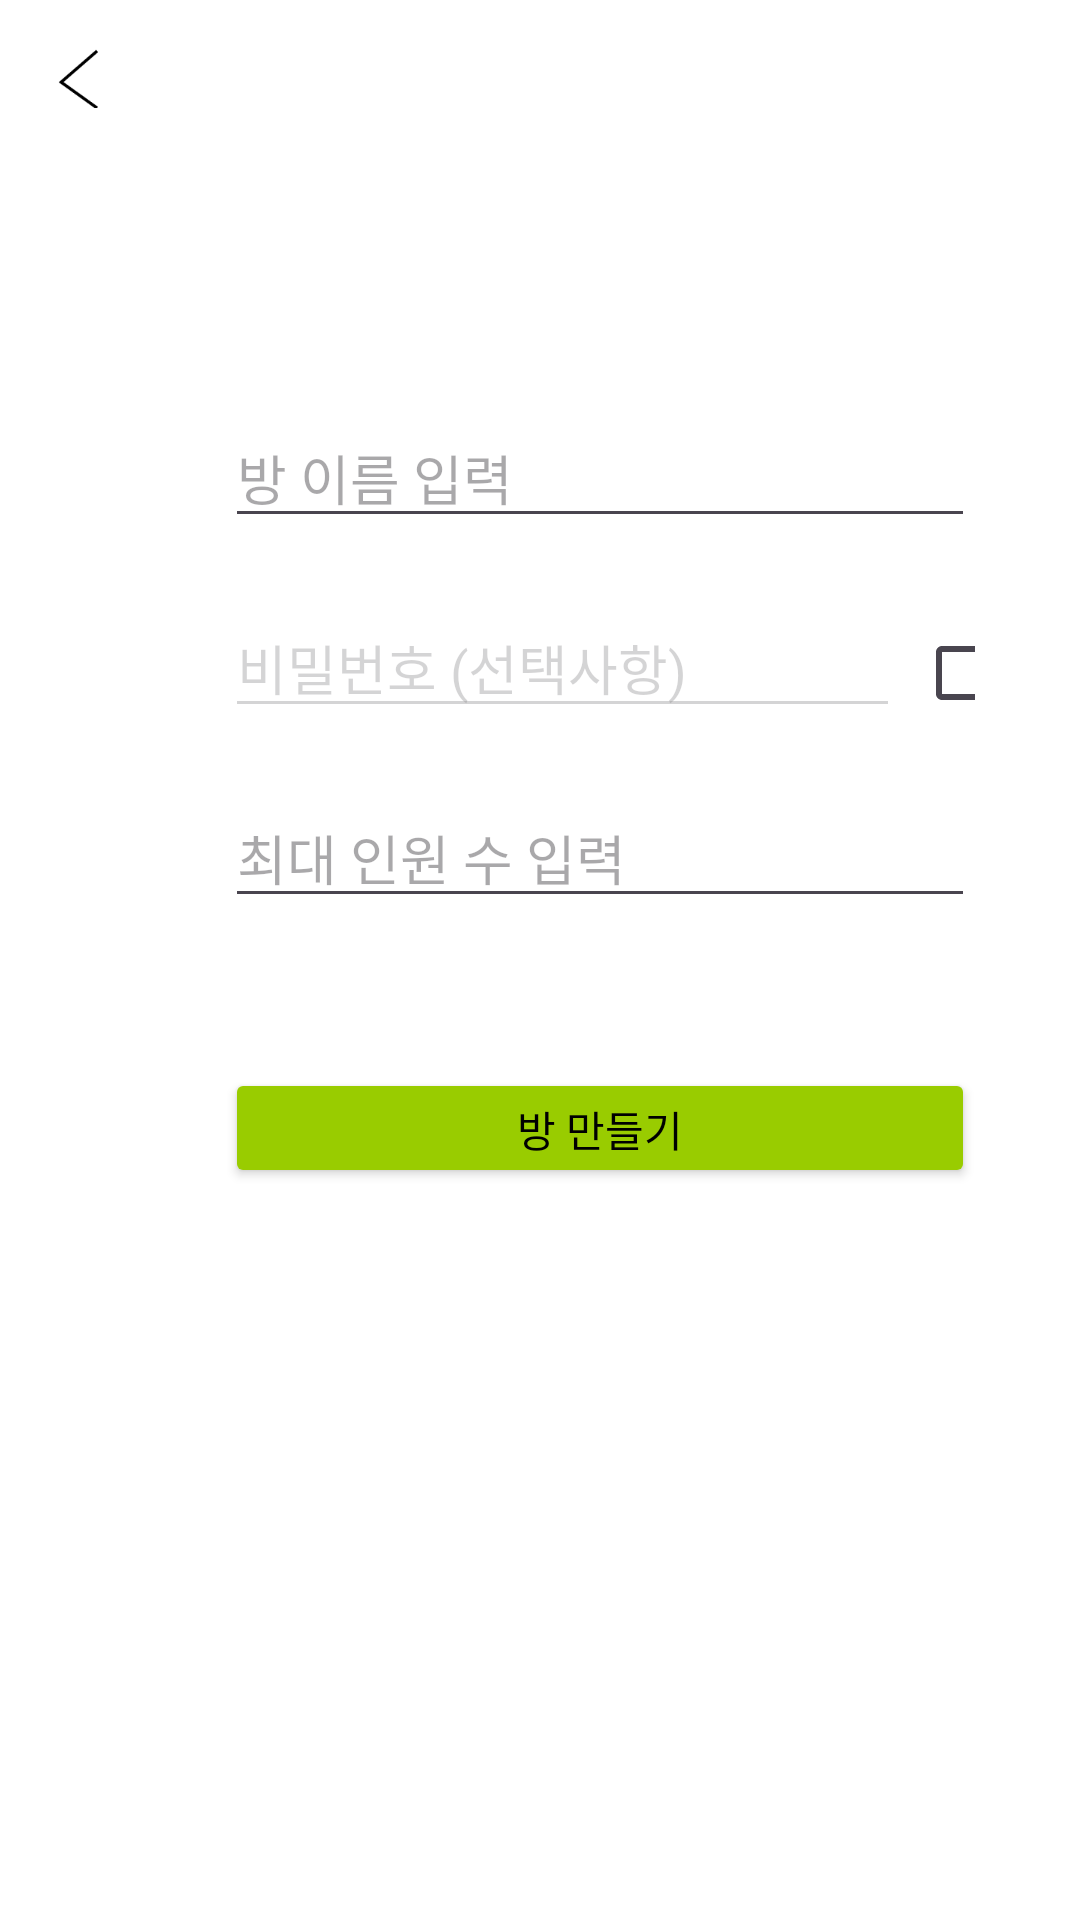

Where icons sit on this 1080 × 1920 app screen, as (x1, y1, x2, y2):
back arrow: (59, 50, 98, 108)
